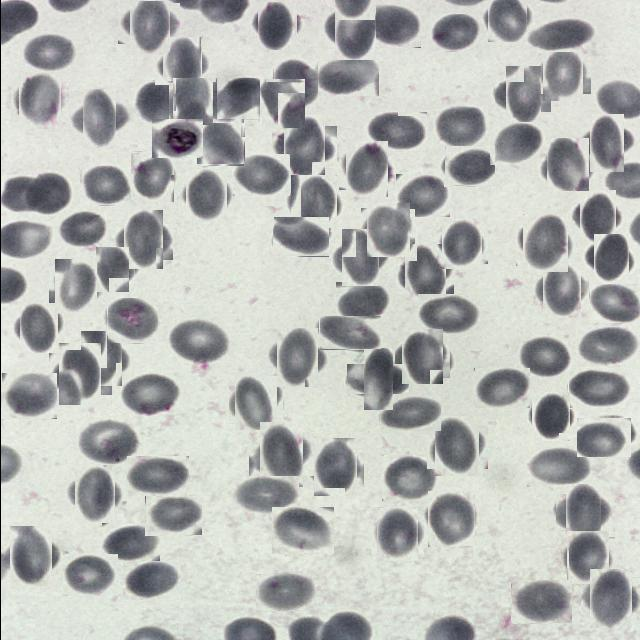difficult: (151, 119, 202, 158)
red blood cell: (75, 419, 140, 464), (254, 427, 308, 481), (167, 318, 229, 365), (271, 507, 333, 554), (6, 172, 72, 216), (277, 120, 330, 174), (118, 373, 180, 417), (133, 80, 195, 124), (430, 420, 482, 472), (424, 492, 476, 544), (518, 218, 570, 270), (287, 178, 339, 230), (54, 348, 106, 400), (328, 3, 380, 55), (4, 530, 56, 582), (314, 54, 378, 96), (510, 580, 571, 624), (416, 294, 479, 336), (575, 326, 638, 368), (232, 476, 298, 516), (526, 446, 590, 487), (584, 573, 635, 624), (122, 0, 174, 50), (381, 455, 437, 501), (272, 332, 322, 383), (308, 442, 359, 492), (1, 373, 56, 419), (567, 369, 630, 409), (524, 18, 598, 52), (363, 4, 420, 48), (399, 248, 449, 298), (118, 214, 168, 264), (14, 76, 64, 126), (364, 112, 426, 152), (126, 456, 188, 496), (69, 469, 119, 518), (342, 144, 391, 194), (362, 205, 412, 254), (76, 334, 126, 383), (230, 378, 280, 426), (232, 154, 289, 196), (395, 172, 449, 216), (397, 332, 446, 380), (538, 49, 586, 98), (106, 298, 157, 344), (433, 105, 487, 148), (122, 560, 180, 600), (517, 336, 572, 378), (62, 554, 117, 596), (544, 141, 592, 189), (128, 152, 176, 200), (563, 534, 611, 582), (372, 510, 420, 558), (52, 262, 100, 310), (196, 118, 244, 166), (258, 80, 306, 128), (473, 368, 529, 409), (144, 496, 201, 536), (489, 122, 542, 165), (536, 266, 584, 313), (75, 95, 122, 143), (272, 58, 317, 108), (20, 33, 76, 73), (272, 217, 328, 257), (378, 396, 440, 432), (182, 172, 229, 219), (158, 41, 205, 88), (336, 233, 383, 280), (101, 523, 159, 561), (335, 282, 390, 322), (255, 574, 314, 611), (574, 193, 620, 240), (583, 119, 629, 166), (576, 416, 630, 456), (318, 316, 381, 350), (499, 71, 545, 117), (354, 356, 400, 402), (588, 284, 640, 324), (560, 489, 606, 534), (439, 221, 484, 267), (443, 146, 494, 186), (15, 305, 60, 350), (80, 166, 130, 206), (254, 3, 298, 48), (428, 14, 479, 52), (57, 210, 108, 248), (528, 394, 572, 438), (170, 80, 214, 124), (215, 78, 261, 120), (589, 238, 632, 281), (485, 0, 528, 41), (92, 250, 132, 288)
